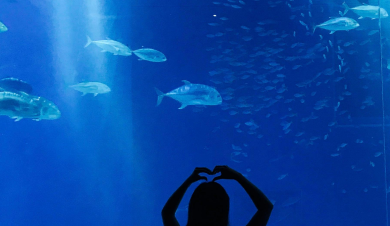fishLarge: (153, 79, 226, 110), (3, 89, 61, 122), (84, 34, 132, 57), (0, 92, 41, 118), (312, 16, 360, 35), (342, 2, 389, 20), (66, 80, 112, 97), (127, 45, 168, 63)
